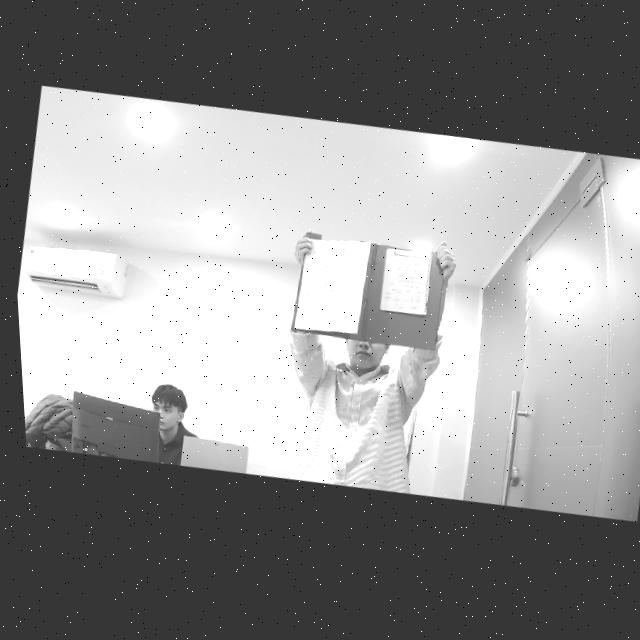document: (294, 238, 371, 333), (380, 248, 431, 314)
